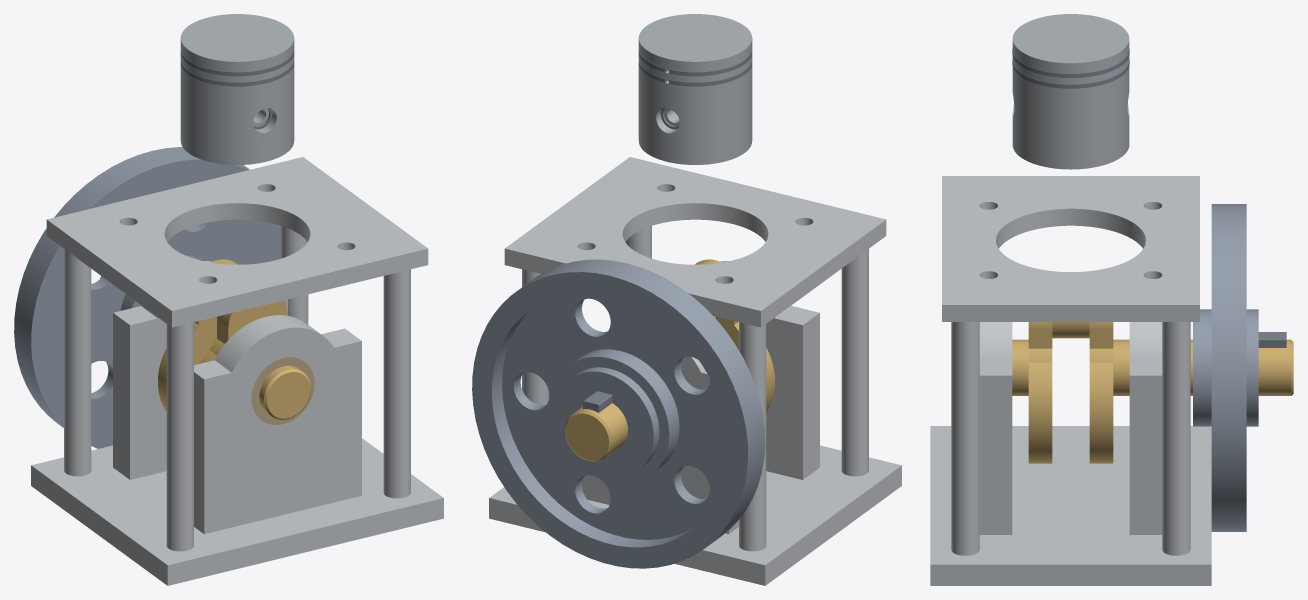
Rendered from step_33.glb.
3 views of the same model, side by side, from view 1: azimuth 30°, elevation 25°; view 2: azimuth 150°, elevation 25°; view 3: azimuth 270°, elevation 25° (orthographic). The views are drawn at different scales.
Visible parts, largest first — view 1: part__crankcase frame, part__flywheel, part__piston, part__crankshaft, part__main bush 2, part__piston ring 2, part__piston ring 1; view 2: part__crankcase frame, part__flywheel, part__piston, part__crankshaft, part__piston ring 2, part__piston ring 1; view 3: part__crankcase frame, part__piston, part__flywheel, part__crankshaft, part__piston ring 2, part__piston ring 1.
Boxes of the visible parts, x1,y1,x2,y2 form: part__crankcase frame: [31, 157, 443, 585]; part__flywheel: [14, 147, 280, 448]; part__piston: [180, 14, 294, 164]; part__crankshaft: [158, 259, 311, 419]; part__main bush 2: [251, 357, 314, 424]; part__piston ring 2: [180, 58, 294, 86]; part__piston ring 1: [180, 48, 294, 76]; part__crankcase frame: [489, 157, 901, 585]; part__flywheel: [472, 259, 765, 568]; part__piston: [638, 14, 752, 164]; part__crankshaft: [565, 259, 774, 461]; part__piston ring 2: [638, 58, 752, 86]; part__piston ring 1: [638, 48, 752, 76]; part__crankcase frame: [930, 176, 1211, 585]; part__piston: [1012, 14, 1129, 169]; part__flywheel: [1193, 204, 1258, 531]; part__crankshaft: [1012, 322, 1293, 463]; part__piston ring 2: [1012, 59, 1129, 88]; part__piston ring 1: [1012, 48, 1129, 77].
Size of the model in its own units: 140 by 225 by 155.
